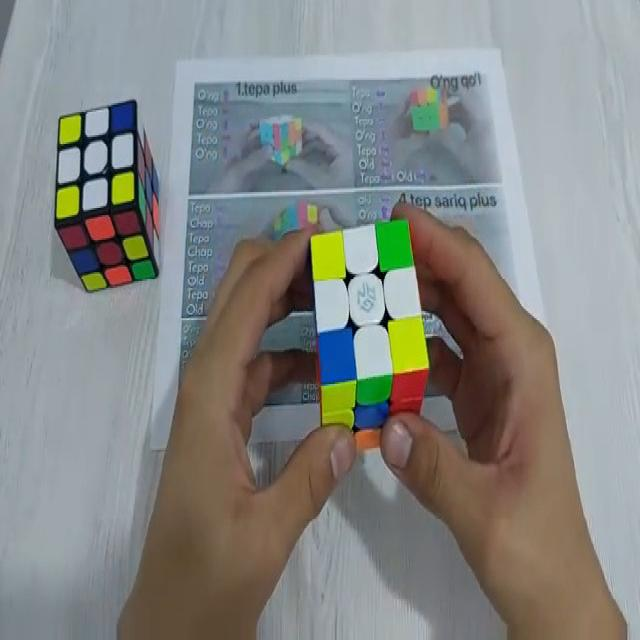Rub: (307, 217, 428, 454), (54, 99, 161, 294)
